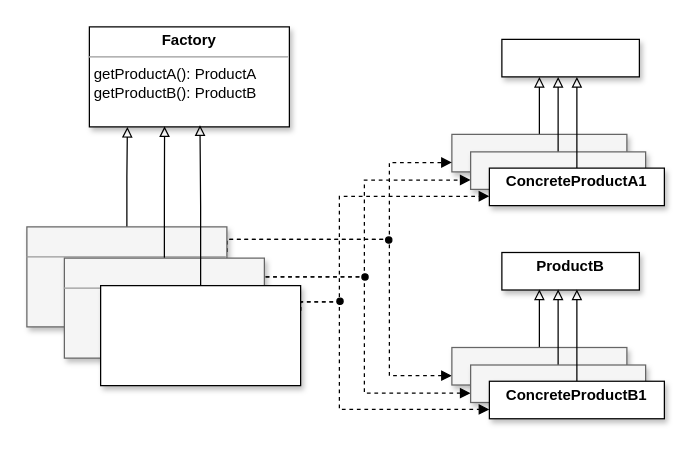
The diagram is 694 pixels wide and 450 high, and some of its shapes have lost their labels. The shapes that lost their labels are listed below. From the top down, each one's centre as x and y in pixels, then its label:
At point 571,59: "ProductA".
At point 201,336: "ConcreteFactory1 getProductA(): ProductA getProductB(): ProductB".
